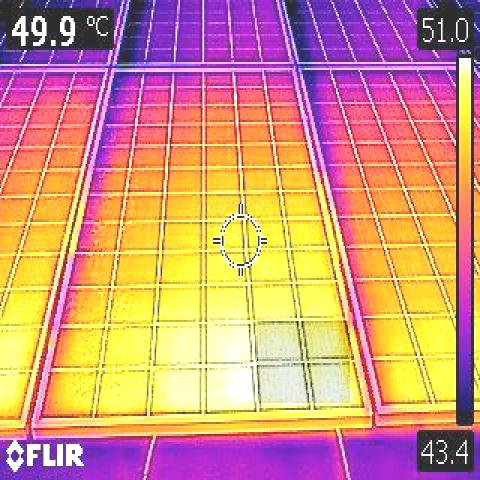fault: (257, 322, 350, 404)
